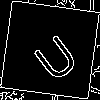U: (25, 25, 83, 85)
